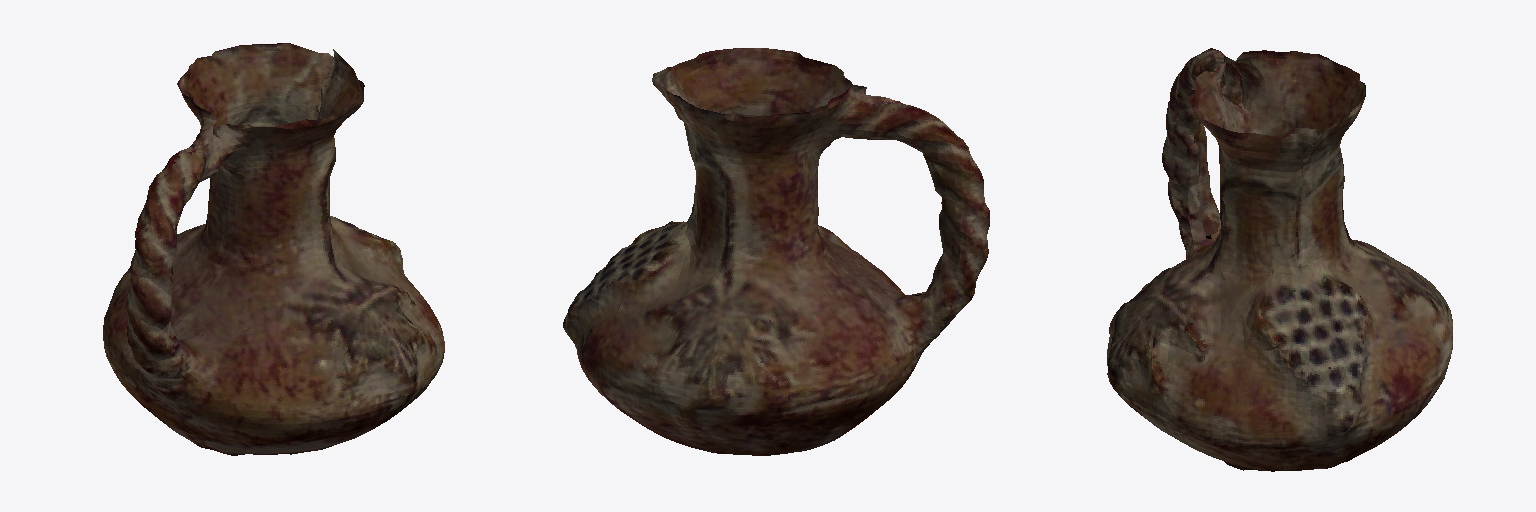
The picture shows the model from 3 angles: view 1: azimuth 30°, elevation 25°; view 2: azimuth 150°, elevation 25°; view 3: azimuth 270°, elevation 25°; orthographic projection.
Parts seen in each view (by area): view 1: Vase; view 2: Vase; view 3: Vase.
Boxes of the visible parts, <box> form: Vase: <box>103,43,444,455</box>; Vase: <box>563,48,989,455</box>; Vase: <box>1107,48,1452,471</box>.
Size of the model in its own units: 267 by 256 by 233.
1 materials, 1 textured.